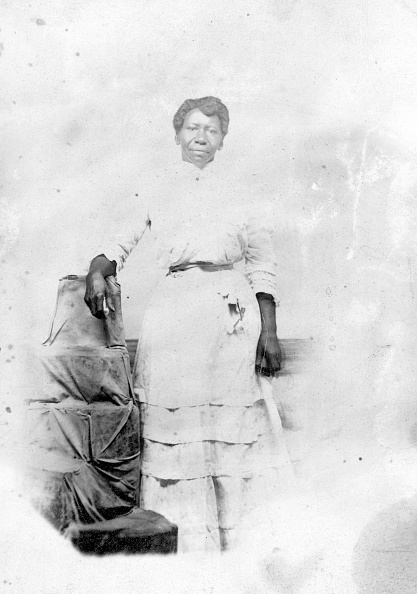em pe: (92, 73, 315, 400)
